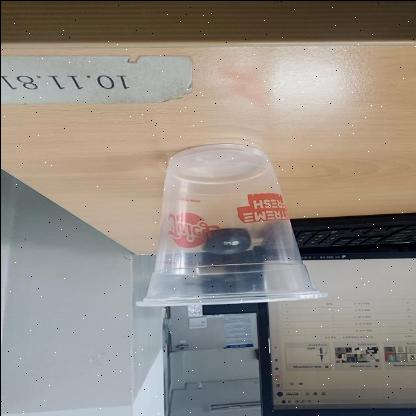Others: (132, 144, 324, 308)
